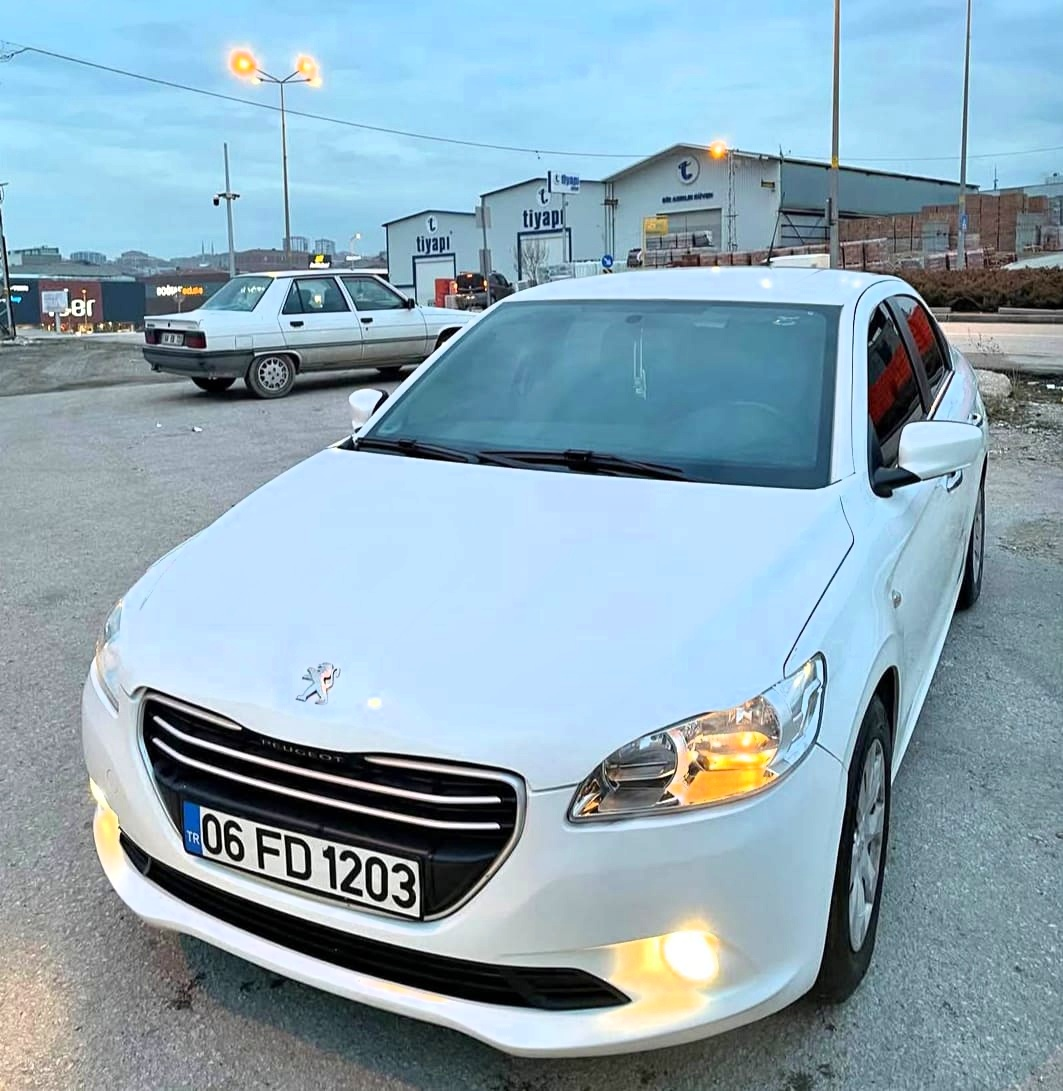plaka: (196, 794, 418, 916)
